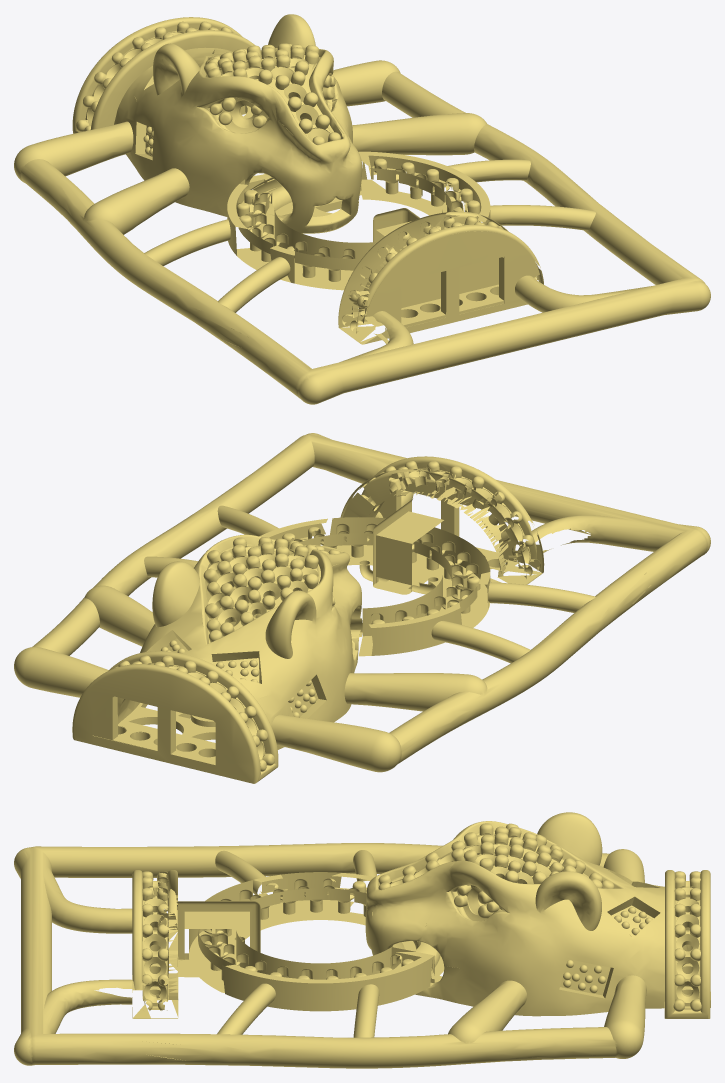
Rendered from kolye56_aslan.glb.
3 renders of one model, top to bottom at view 1: azimuth 30°, elevation 25°; view 2: azimuth 150°, elevation 25°; view 3: azimuth 270°, elevation 25°, orthographic.
Parts seen in each view (by area): view 1: Renderer Node; view 2: Renderer Node; view 3: Renderer Node.
Boxes of the visible parts, left/top/right/bottom form: Renderer Node: left=14, top=14, right=710, bottom=404; Renderer Node: left=14, top=433, right=710, bottom=783; Renderer Node: left=14, top=812, right=710, bottom=1068.
Size of the model in its own units: 23.93 by 7.27 by 33.93.
